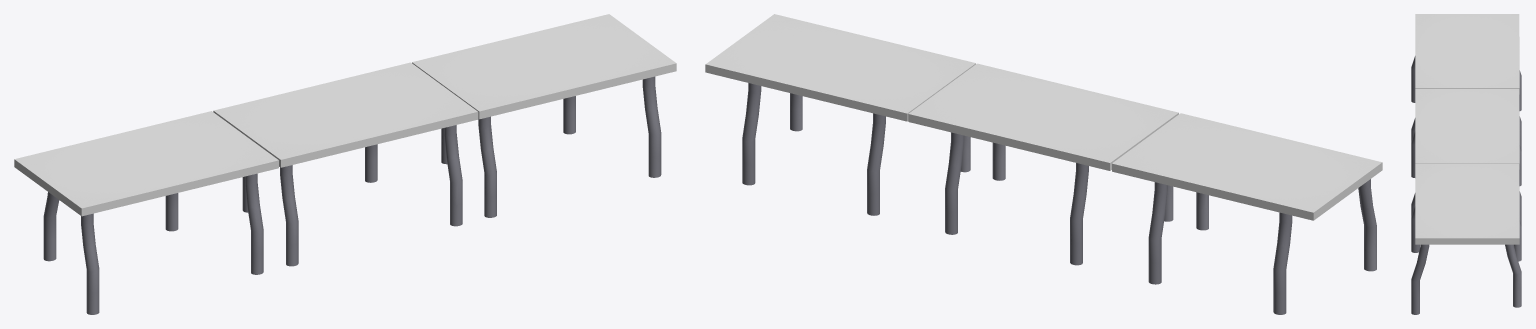
Rendered from Fila_Mesas3.obj.
The picture shows the model from 3 angles, left to right: view 1: azimuth 30°, elevation 25°; view 2: azimuth 150°, elevation 25°; view 3: azimuth 270°, elevation 25°; orthographic projection. The views are drawn at different scales.
Visible parts, largest first — view 1: Box009, Box011, Box012, Tube045, Tube036, Tube034, Tube042, Tube046, Tube041, Tube035, Tube033, Tube043 (+1 smaller); view 2: Box009, Box011, Box012, Tube033, Tube035, Tube047, Tube044, Tube048, Tube043, Tube036, Tube041, Tube034 (+1 smaller); view 3: Box012, Box009, Box011, Tube045, Tube047, Tube046, Tube036, Tube042, Tube048, Tube035, Tube044.
Part boxes in pixels (bbox=[...]): Box009: bbox=[14, 111, 278, 216]; Box011: bbox=[213, 62, 478, 167]; Box012: bbox=[412, 14, 676, 119]; Tube045: bbox=[642, 76, 661, 177]; Tube036: bbox=[81, 213, 99, 314]; Tube034: bbox=[245, 173, 263, 274]; Tube042: bbox=[280, 165, 298, 266]; Tube046: bbox=[478, 116, 496, 217]; Tube041: bbox=[444, 125, 462, 226]; Tube035: bbox=[43, 192, 59, 261]; Tube033: bbox=[165, 193, 178, 231]; Tube043: bbox=[365, 144, 377, 182]; Box009: bbox=[1112, 113, 1382, 220]; Box011: bbox=[908, 63, 1178, 170]; Box012: bbox=[705, 14, 975, 121]; Tube033: bbox=[1148, 182, 1167, 284]; Tube035: bbox=[1273, 212, 1292, 314]; Tube047: bbox=[742, 83, 761, 185]; Tube044: bbox=[1070, 163, 1088, 265]; Tube048: bbox=[867, 113, 885, 215]; Tube043: bbox=[945, 132, 963, 234]; Tube036: bbox=[1358, 179, 1376, 271]; Tube041: bbox=[992, 142, 1005, 180]; Tube034: bbox=[1196, 192, 1208, 230]; Box012: bbox=[1415, 164, 1519, 244]; Box009: bbox=[1415, 14, 1519, 94]; Box011: bbox=[1415, 89, 1519, 169]; Tube045: bbox=[1411, 244, 1429, 314]; Tube047: bbox=[1505, 244, 1521, 307]; Tube046: bbox=[1411, 206, 1419, 252]; Tube036: bbox=[1411, 56, 1415, 102]; Tube042: bbox=[1411, 131, 1415, 177]; Tube048: bbox=[1514, 220, 1521, 261]; Tube035: bbox=[1519, 70, 1521, 111]; Tube044: bbox=[1519, 145, 1521, 186].
Bounding box in the file's own units: 78.39 × 13.46 × 16.33.
Materials: 2 (2 with a texture image).
